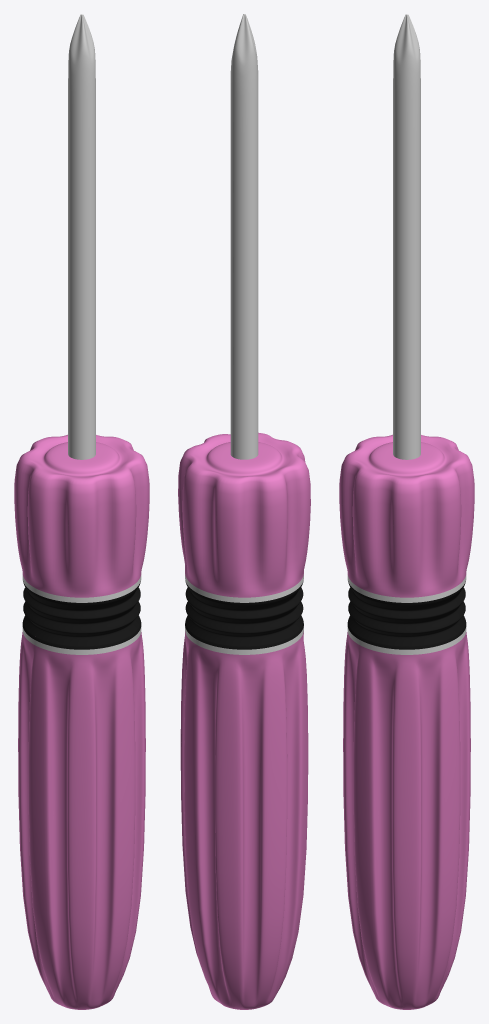
Rendered from screwdriver.glb.
3 views of the same model, side by side, from view 1: azimuth 90°, elevation 25°; view 2: azimuth 210°, elevation 25°; view 3: azimuth 270°, elevation 25° (orthographic).
Visible parts, largest first — view 1: Holder, Shaft; view 2: Holder, Shaft; view 3: Holder, Shaft.
Boxes of the visible parts, left/top/right/bottom form: Holder: left=14, top=434, right=149, bottom=1009; Shaft: left=68, top=14, right=95, bottom=459; Holder: left=178, top=432, right=310, bottom=1009; Shaft: left=230, top=14, right=258, bottom=459; Holder: left=339, top=434, right=474, bottom=1009; Shaft: left=393, top=14, right=420, bottom=459.
Size of the model in its own units: 2.11 by 16.99 by 2.11.
